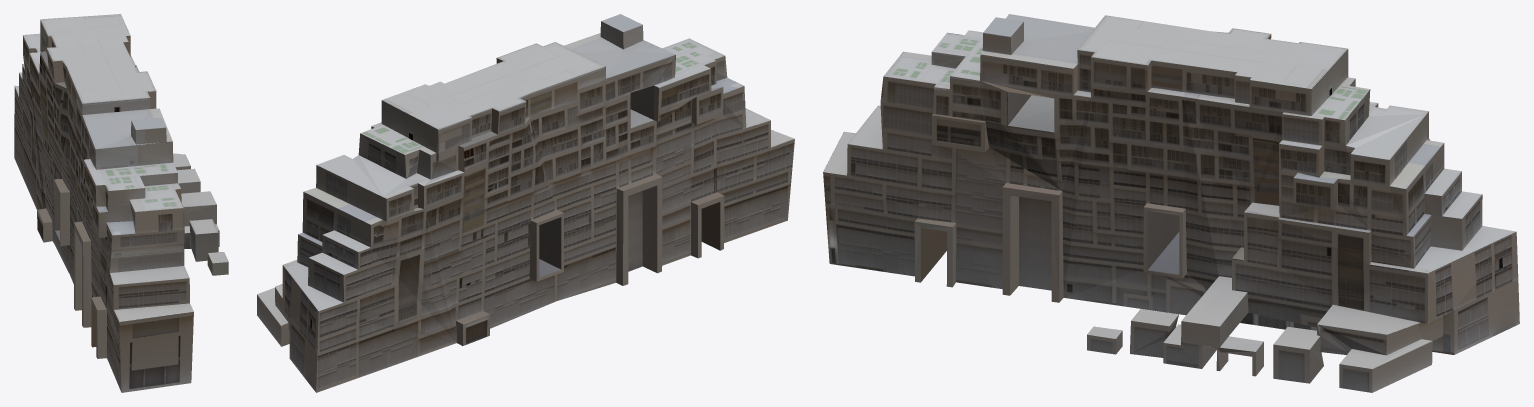
3 renders of one model, left to right at view 1: azimuth 30°, elevation 25°; view 2: azimuth 150°, elevation 25°; view 3: azimuth 270°, elevation 25°, orthographic. The views are drawn at different scales.
Parts seen in each view (by area): view 1: 504_001; view 2: 504_001; view 3: 504_001.
Boxes of the visible parts, x1,y1,x2,y2 form: 504_001: [14, 14, 228, 392]; 504_001: [257, 14, 794, 392]; 504_001: [823, 14, 1519, 392].
Size of the model in its own units: 97.13 by 68.15 by 169.
1 material, 1 textured.
